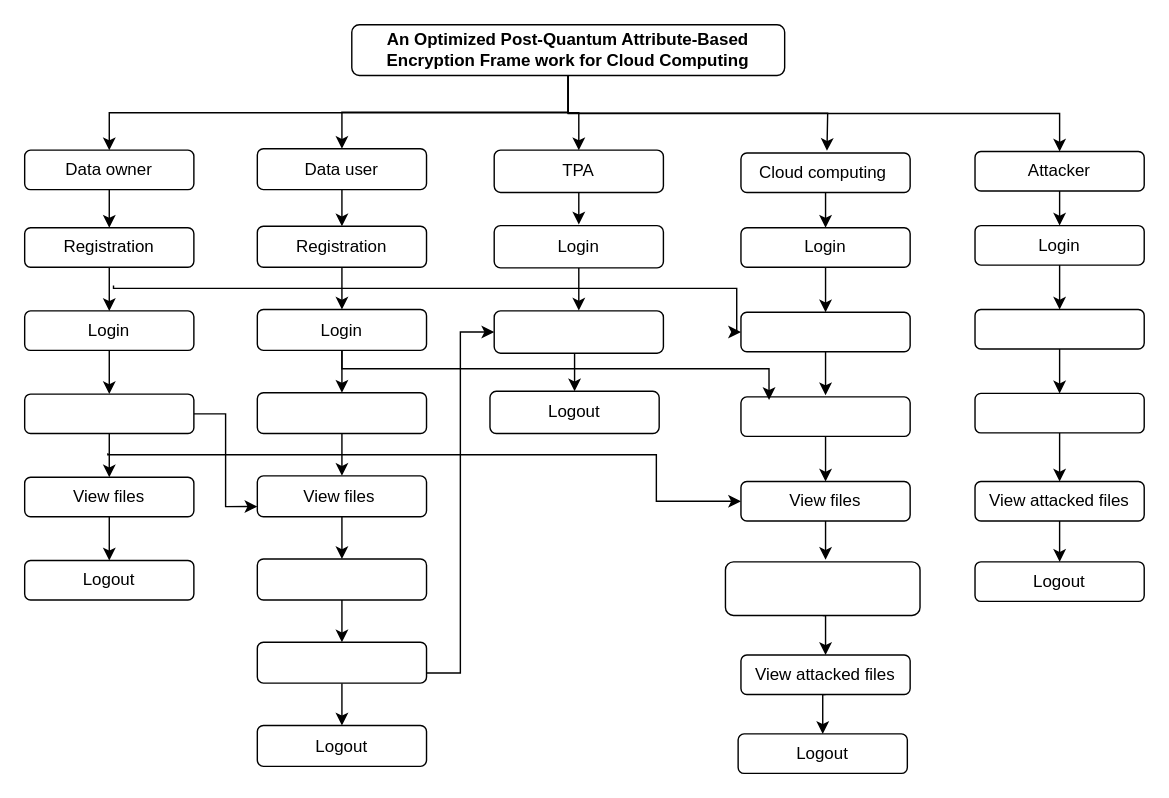
Image size: 1169x798. Some labels were removed from this diagram. Here are the shapes that lost their labels. From the top down, the centre of each, then its label:
point 578,331: Private key control
point 825,331: View data owner
point 1059,328: Search file
point 108,413: Upload file
point 341,412: Search files
point 825,416: View data user
point 1059,412: Attack file
point 341,579: Download files
point 822,587: Graphs Encryption\ Decryption
point 341,662: Accept private key
